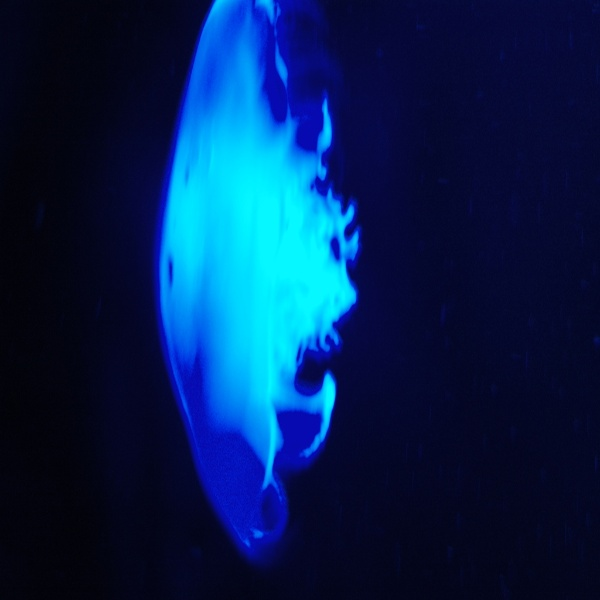Jellyfish: (152, 0, 365, 571)
